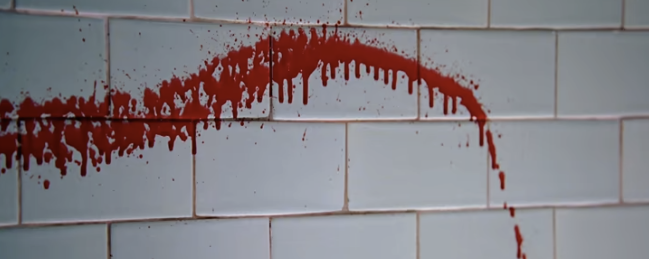blood_50.png: (4, 9, 540, 259)
